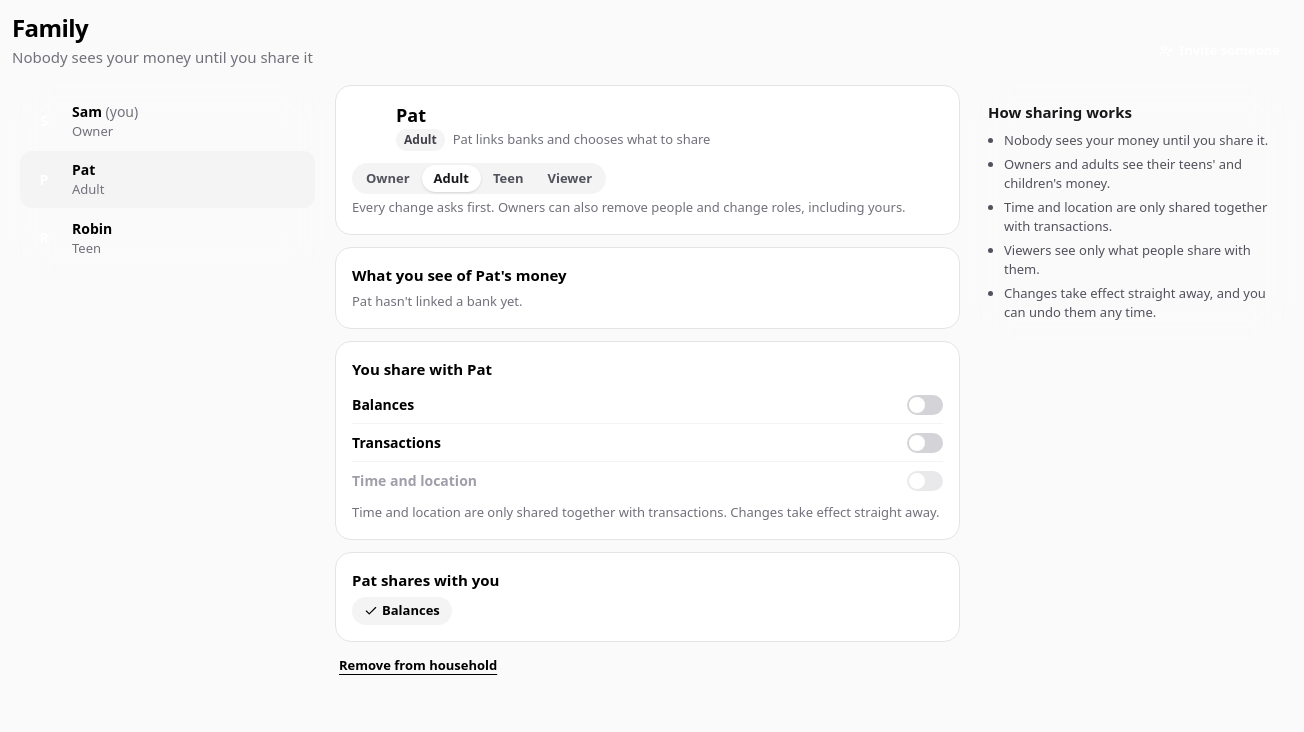
Test: FamilyPage › if saving fails, the switch goes back and says so
Click the switch labelled "Balances" at x=383, y=404, box [352,386,943,424]
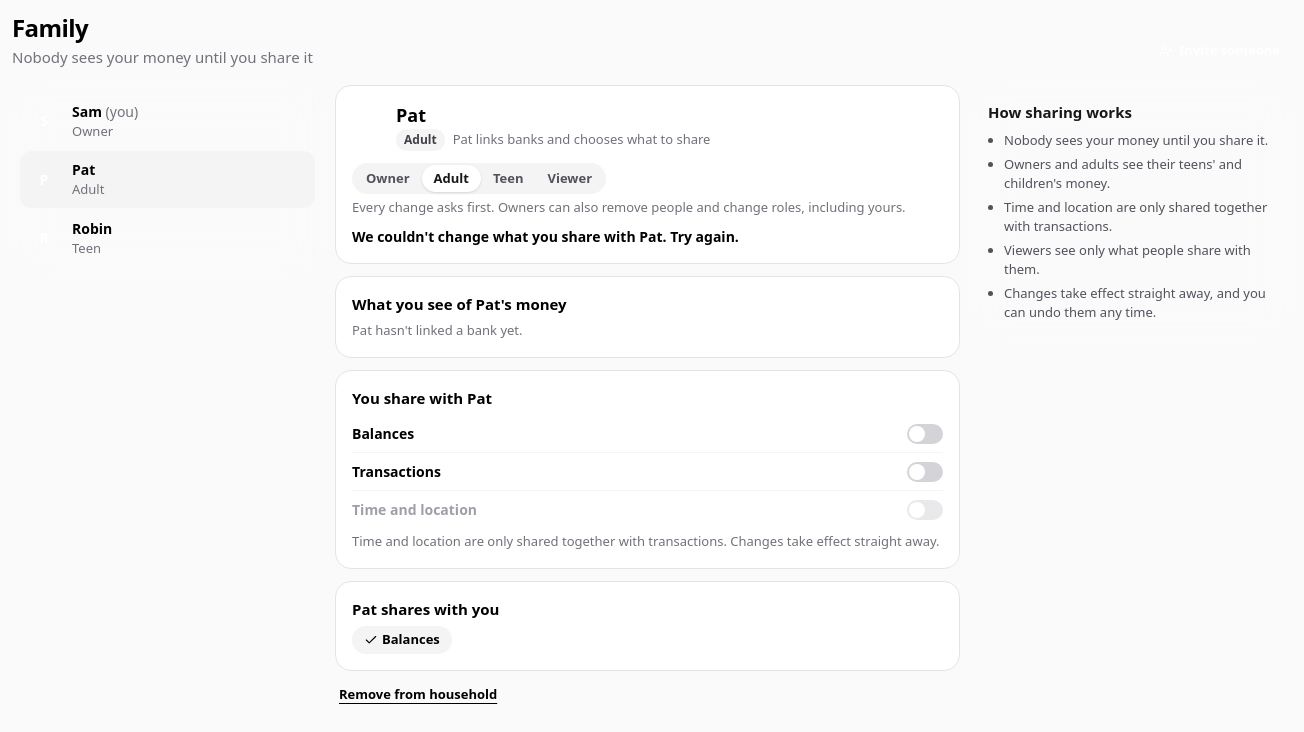
Check: the switch labelled "Balances" is not checked, box [352,415,943,453]
Check: the message shows "We couldn't change what you share with Pat.", box [352,226,739,246]
